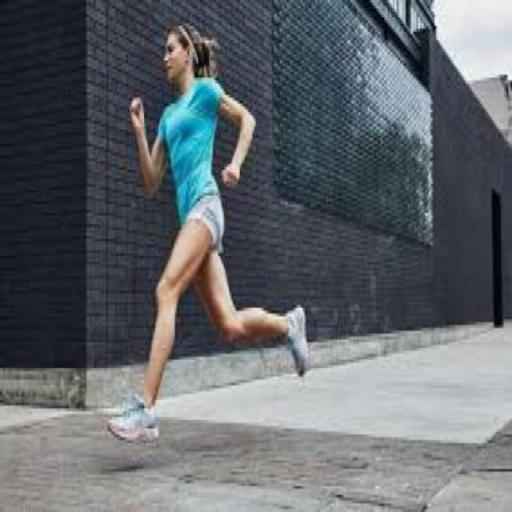Running: (89, 6, 353, 460)
